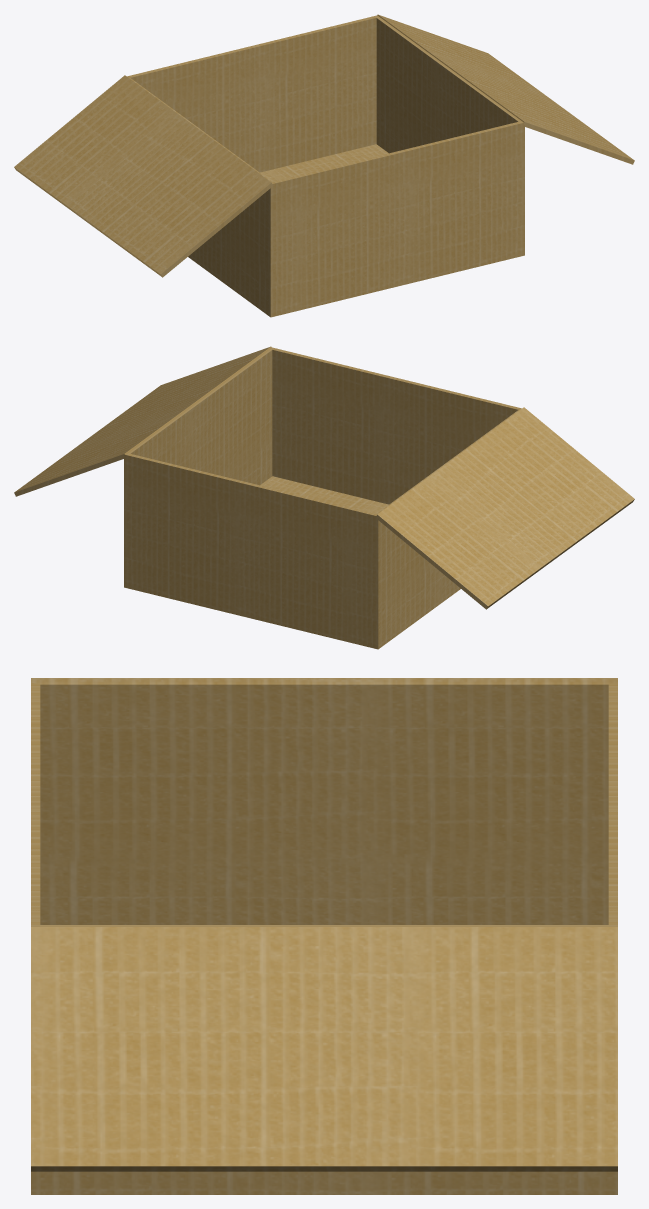
Rendered from Cardboard_A.fbx.
3 renders of one model, top to bottom at view 1: azimuth 30°, elevation 25°; view 2: azimuth 150°, elevation 25°; view 3: azimuth 270°, elevation 25°, orthographic. The views are drawn at different scales.
Visible parts, largest first — view 1: Cardboard_Atype; view 2: Cardboard_Atype; view 3: Cardboard_Atype.
Part boxes in pixels (x1,y1,x2,y2): Cardboard_Atype: (14, 14, 634, 317); Cardboard_Atype: (14, 346, 634, 649); Cardboard_Atype: (31, 678, 617, 1194).
Size of the model in its own units: 373 by 101 by 200.
